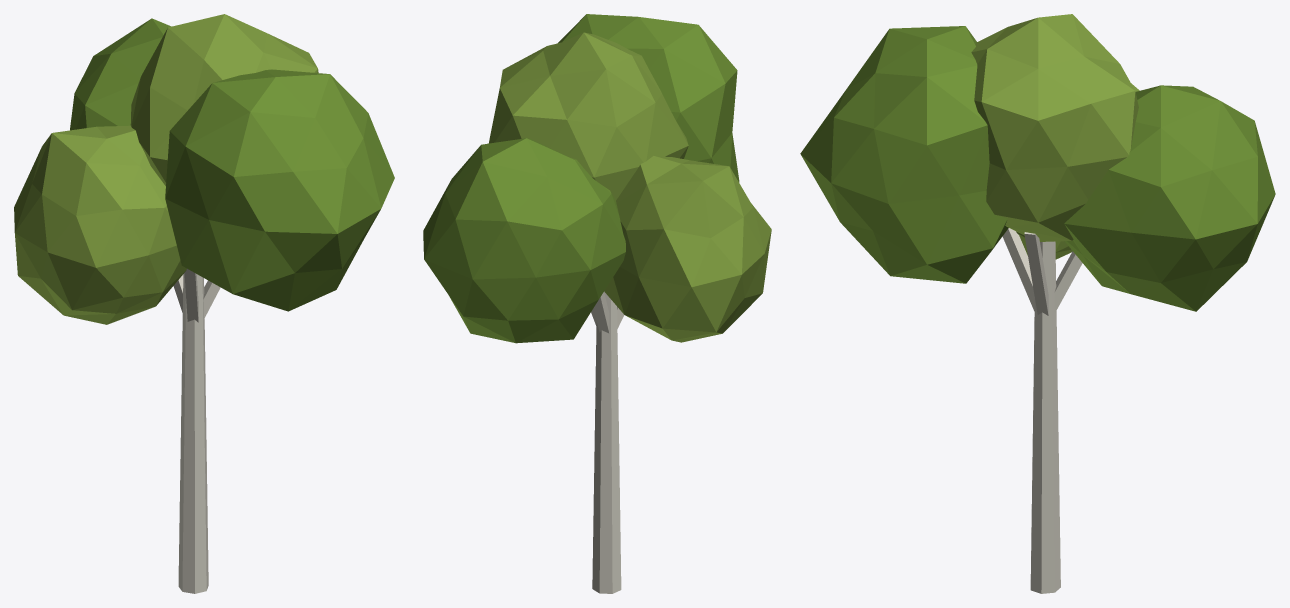
Rendered from birch.glb.
3 views of the same model, side by side, from view 1: azimuth 30°, elevation 25°; view 2: azimuth 150°, elevation 25°; view 3: azimuth 270°, elevation 25° (orthographic). The views are drawn at different scales.
Visible parts, largest first — view 1: birch; view 2: birch; view 3: birch.
Part boxes in pixels (<box>): birch: <box>14,14,394,593</box>; birch: <box>423,14,771,593</box>; birch: <box>800,14,1275,593</box>.
Bounding box in the file's own units: 4.76 × 9.1 × 6.72.
